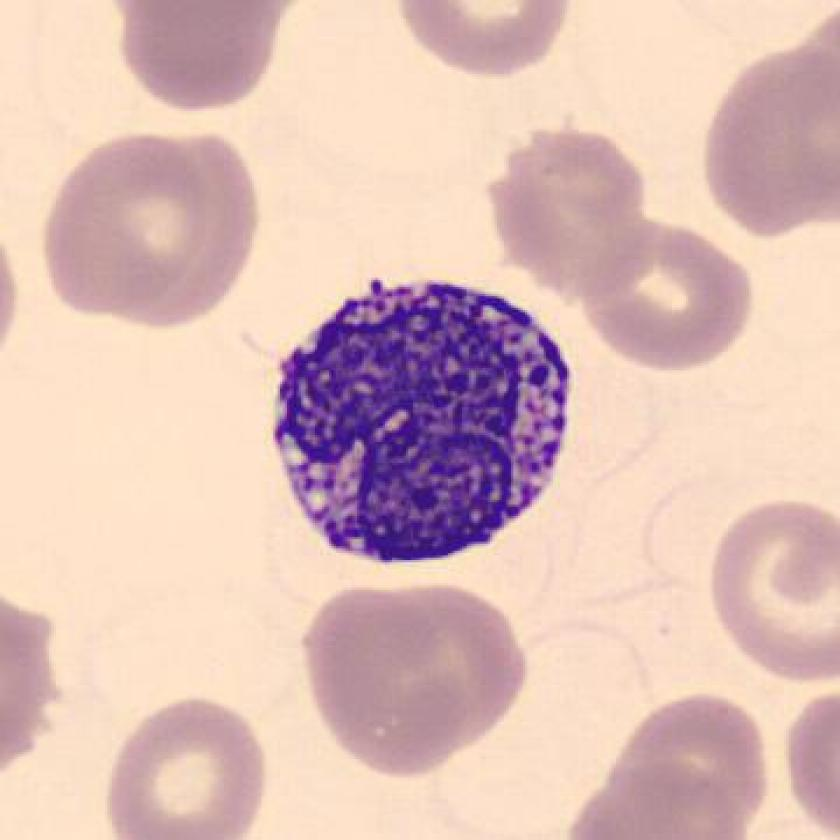basophil: (267, 265, 584, 573)
